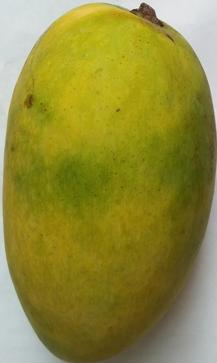PartiallyRipe: (1, 0, 217, 363)
